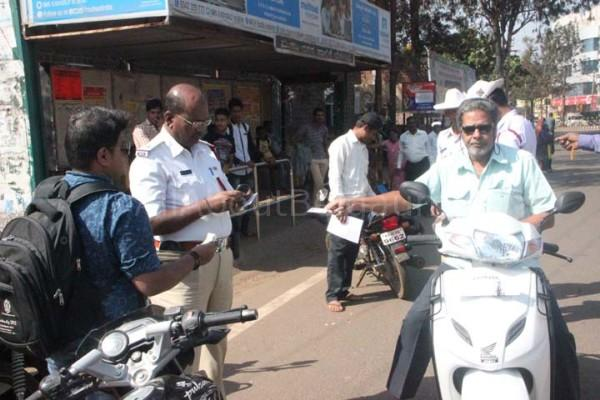nohelmet: (50, 110, 142, 198), (440, 91, 505, 158)
